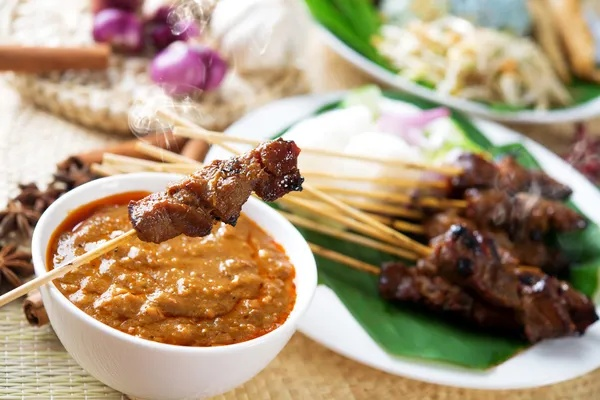sate: (298, 145, 598, 344), (0, 141, 301, 308)
